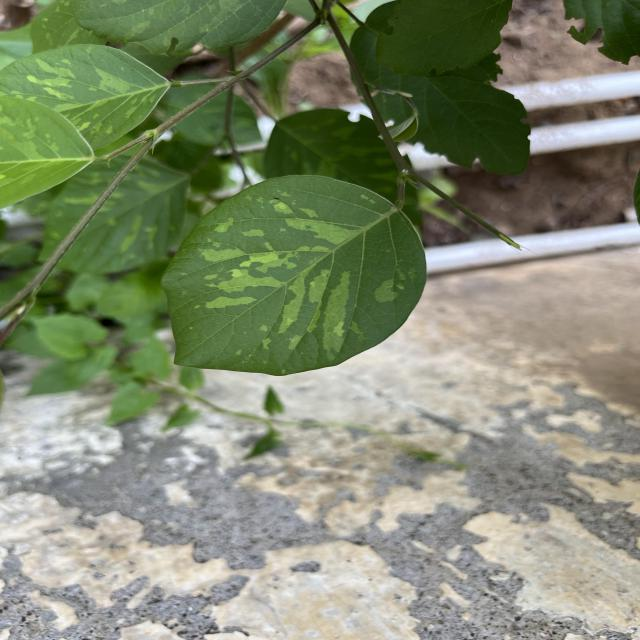Desmodium gangeticum: (156, 170, 432, 382)
